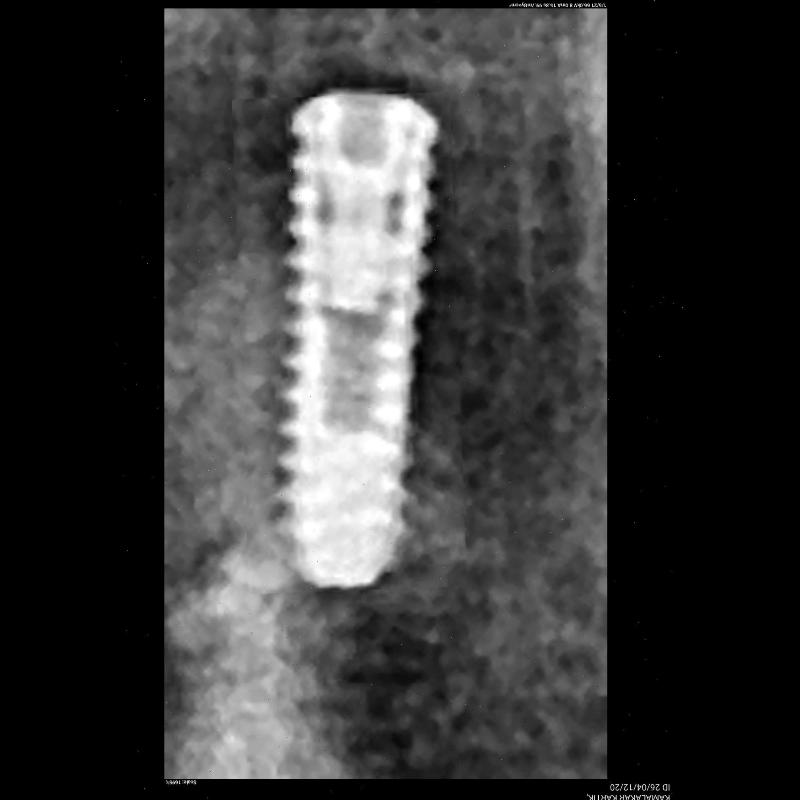osstem: (236, 94, 462, 592)
